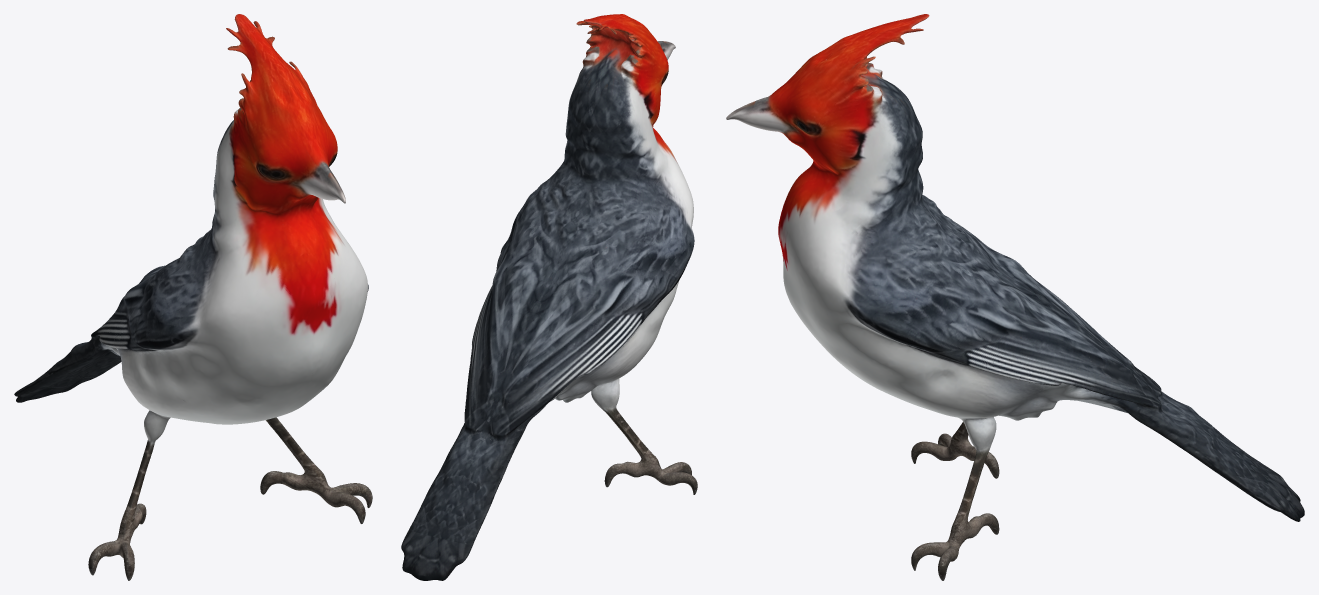
File: Galodecampina.glb
3 renders of one model, left to right at view 1: azimuth 30°, elevation 25°; view 2: azimuth 150°, elevation 25°; view 3: azimuth 270°, elevation 25°, orthographic. The views are drawn at different scales.
Bounding box in the file's own units: 1.01 × 1.82 × 1.9.
1 material, 1 textured.
